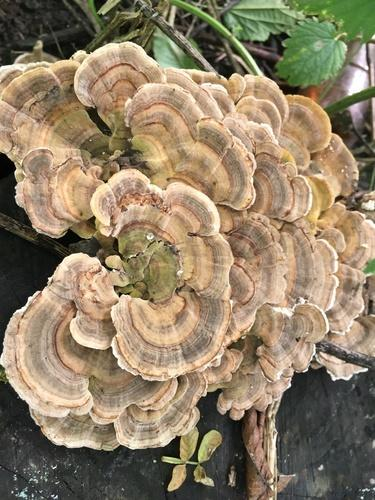Non-edible Mushroom: (0, 40, 374, 453), (88, 167, 234, 381)
